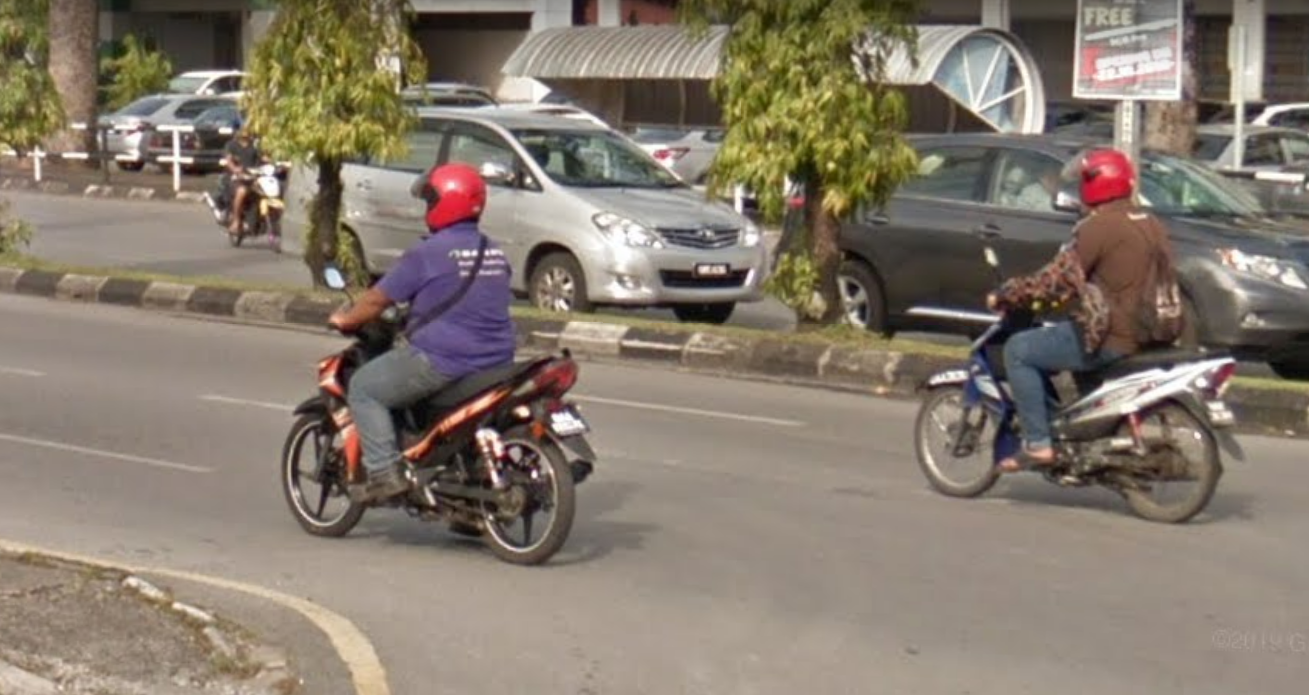sit: (946, 153, 1239, 529), (297, 160, 575, 511)
